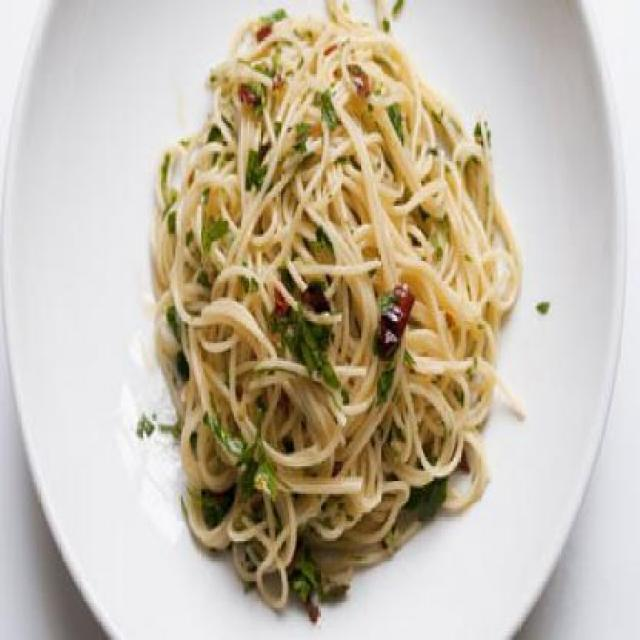Oil pasta: (143, 18, 504, 554)
